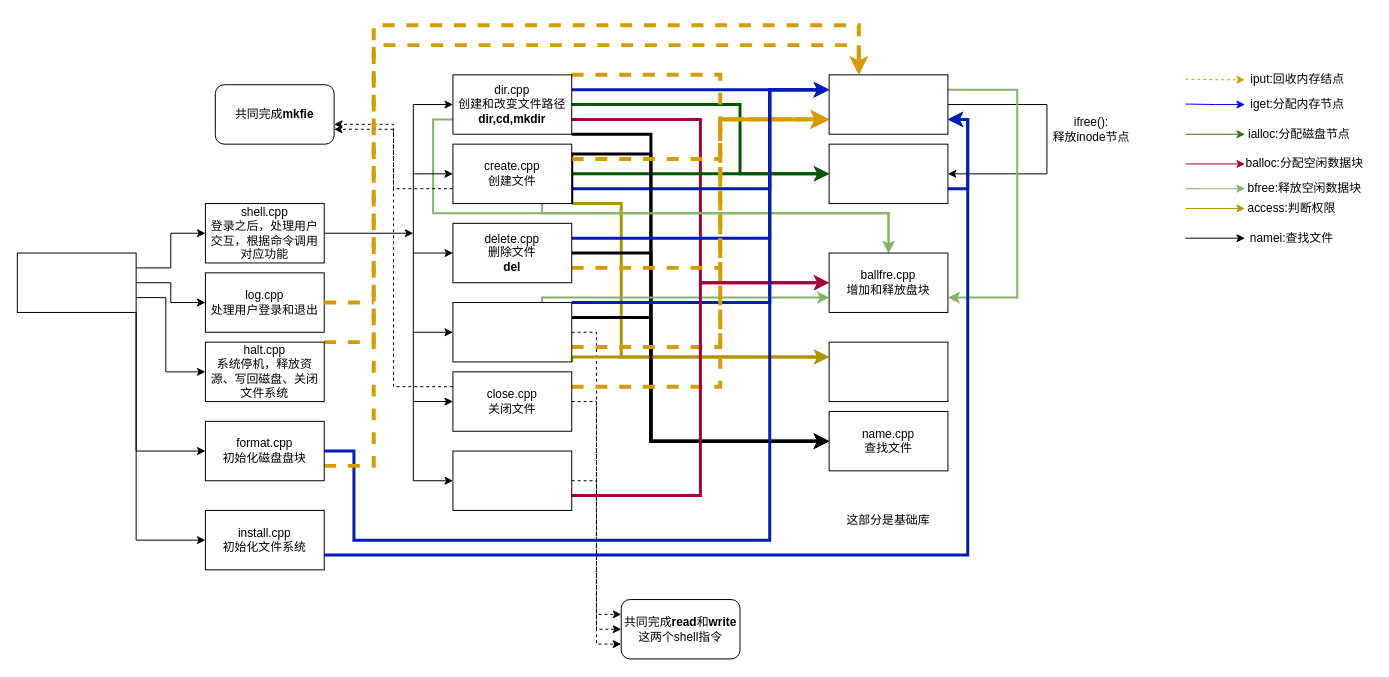
Some shapes in this 1389 by 677 pixel diagram are drawn without their labels. Each missing label, with the centre of its shape:
access.cpp 判断用户是否有权限？: the point at 888,371
iallfree.cpp 分配内节点的内存空间？: the point at 888,173
igetput.cpp: the point at 888,104
main.cpp: the point at 76,282
open.cpp 打开文件: the point at 512,332
rdwt.cpp 读，写文件 read,write: the point at 512,480
